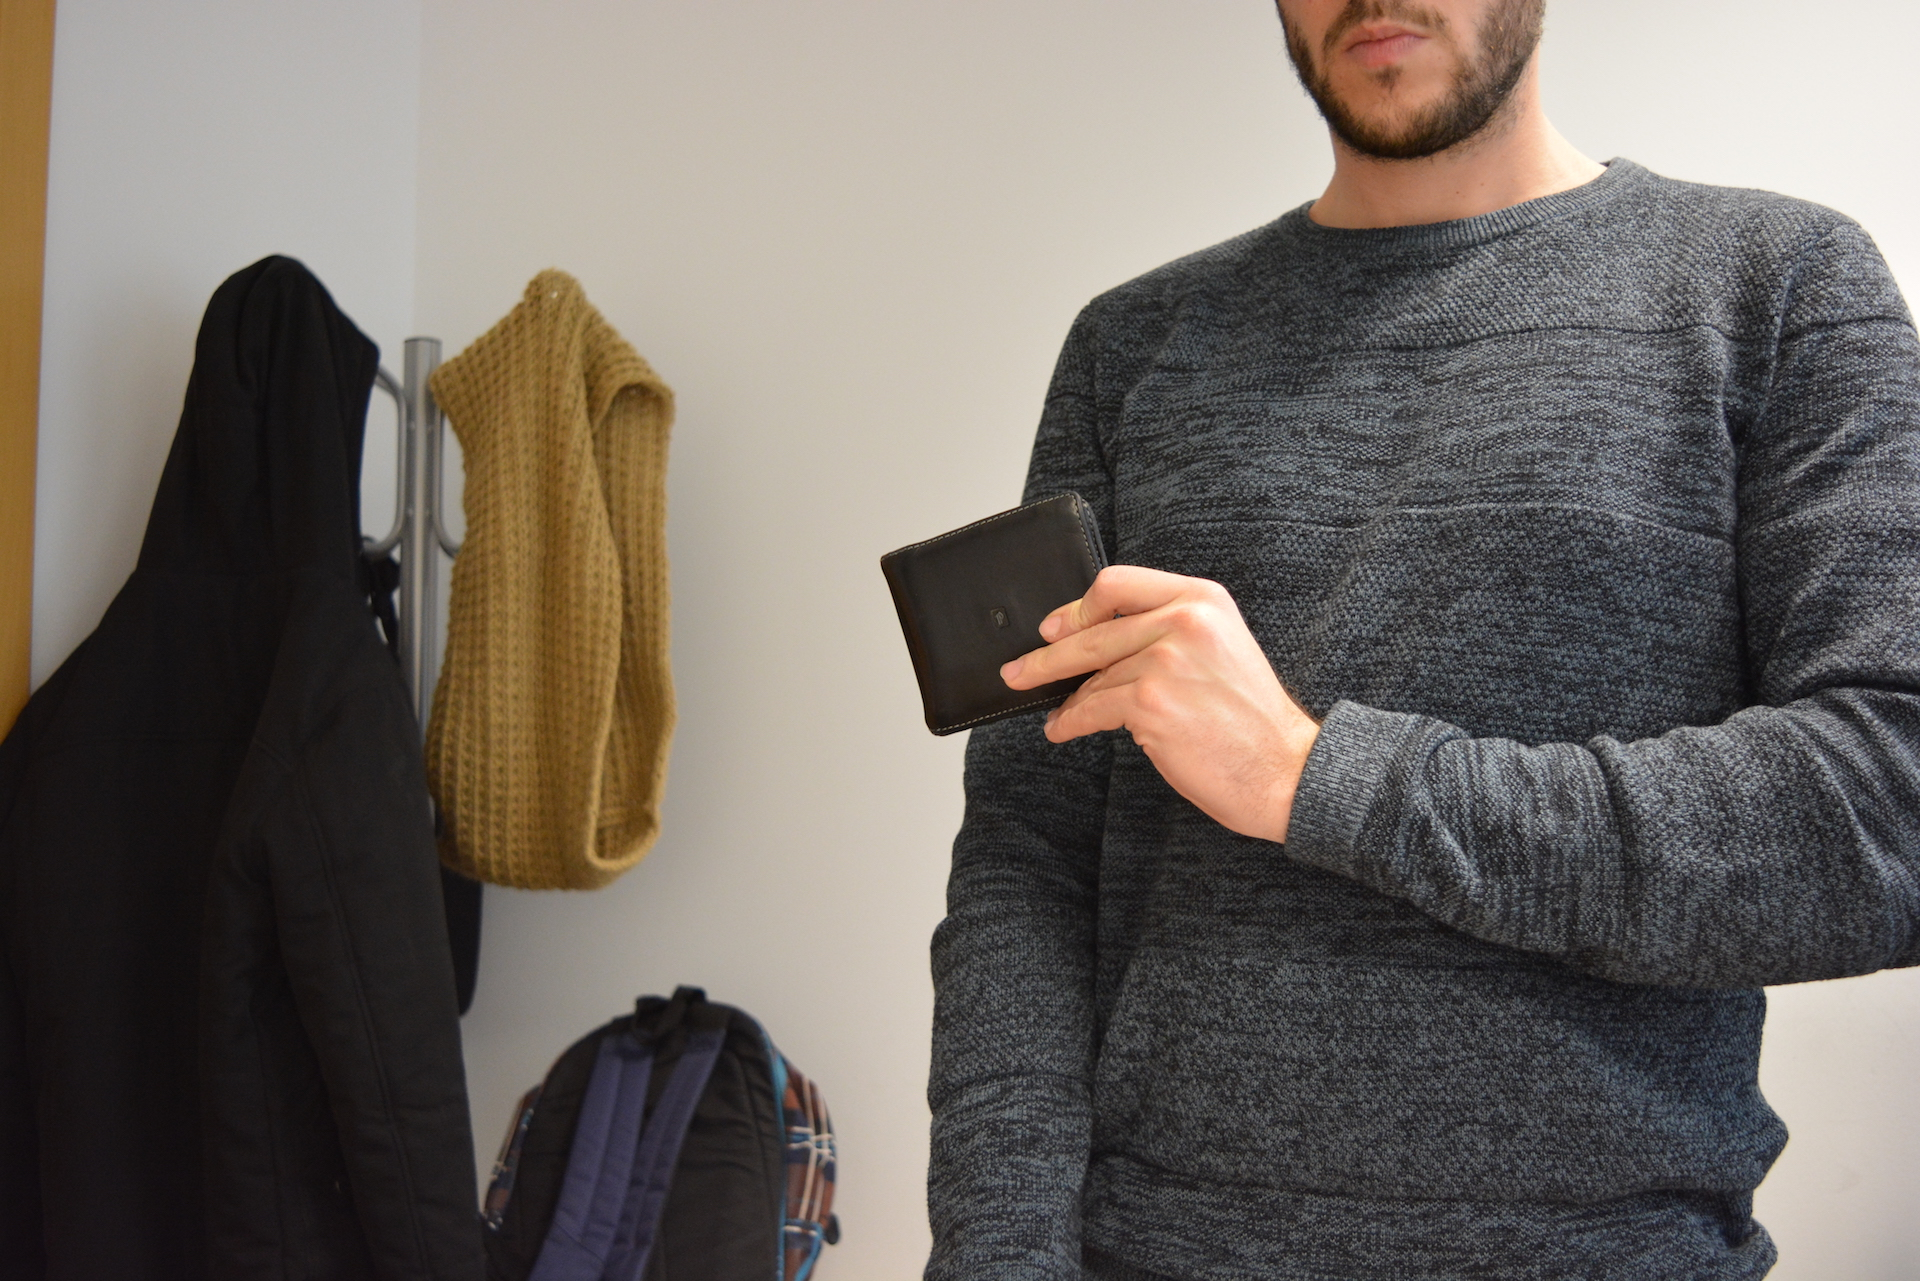monedero: (879, 489, 1125, 738)
